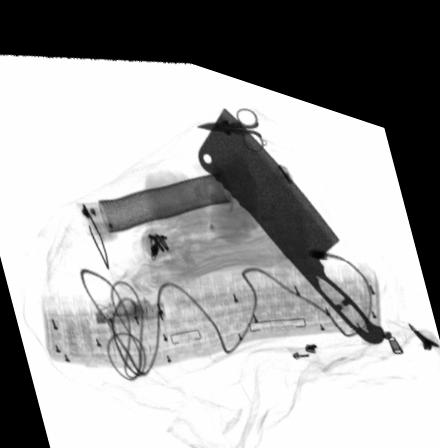Knife: (198, 93, 385, 321)
Scissors: (197, 90, 263, 136)
